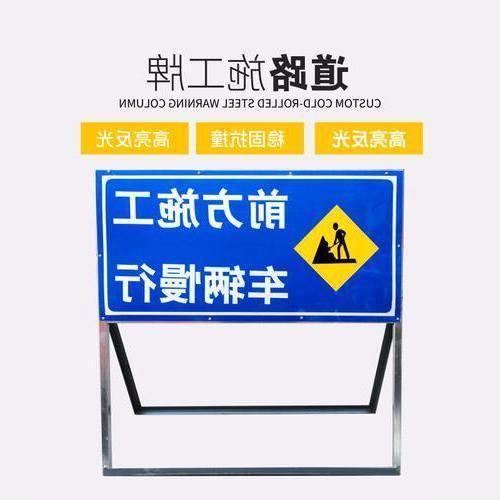sign: (95, 168, 402, 321)
